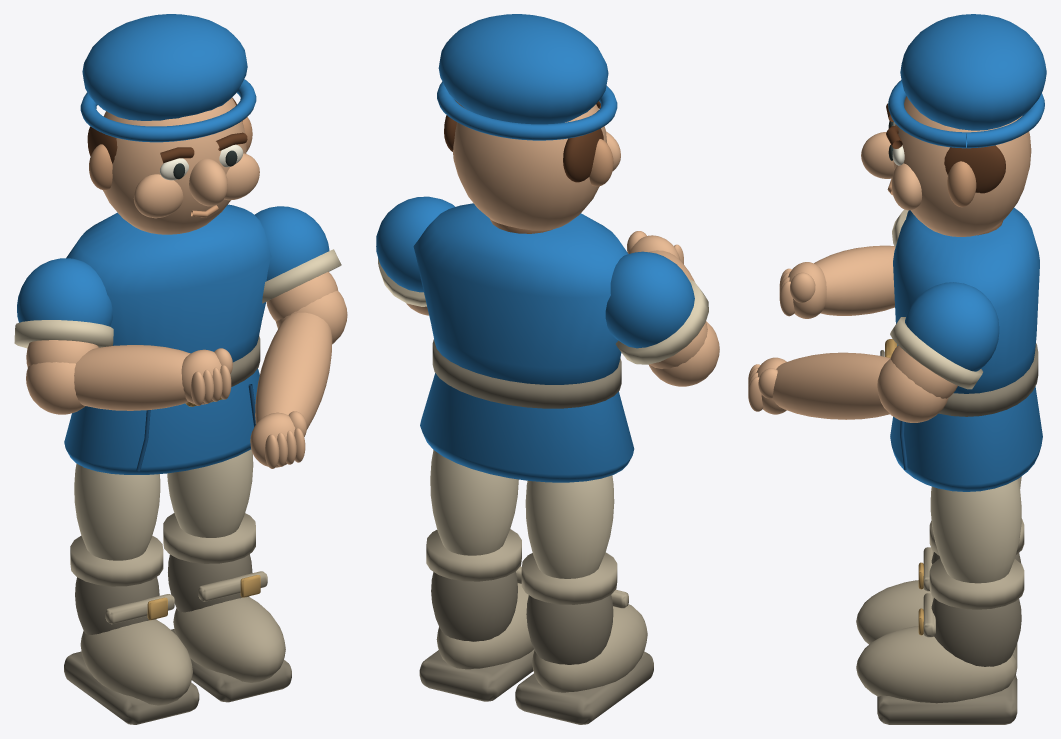
Rendered from houthakker_hakken.glb.
3 renders of one model, left to right at view 1: azimuth 30°, elevation 25°; view 2: azimuth 150°, elevation 25°; view 3: azimuth 270°, elevation 25°, orthographic. The views are drawn at different scales.
Parts seen in each view (by area): view 1: Tunic_torso, TEAM_Wool_work_cap, Tunic_skirt, Head, Boot_toe, Boot_toe.001, Trouser_leg, Right_Forearm, Left_Forearm, Trouser_leg.001, Right_Sleeve, TEAM_Rolled_cap_rim (+23 smaller); view 2: Tunic_torso, Tunic_skirt, TEAM_Wool_work_cap, Head, Trouser_leg, Trouser_leg.001, Right_Sleeve, Boot_shaft, Boot_shaft.001, Belt, Boot_toe, Boot_sole (+13 smaller); view 3: Tunic_torso, TEAM_Wool_work_cap, Tunic_skirt, Boot_toe.001, Trouser_leg.001, Head, Left_Forearm, Left_Sleeve, Right_Forearm, Boot_shaft.001, Boot_sole.001, TEAM_Rolled_cap_rim (+13 smaller).
Part boxes in pixels (x1,y1,x2,y2): Tunic_torso: (66, 204, 271, 362); TEAM_Wool_work_cap: (82, 14, 247, 120); Tunic_skirt: (64, 368, 259, 474); Head: (103, 98, 246, 234); Boot_toe: (80, 619, 192, 705); Boot_toe.001: (173, 597, 285, 682); Trouser_leg: (74, 463, 160, 560); Right_Forearm: (74, 345, 190, 410); Left_Forearm: (255, 312, 332, 429); Trouser_leg.001: (167, 449, 253, 537); Right_Sleeve: (17, 258, 112, 326); TEAM_Rolled_cap_rim: (80, 79, 256, 142); Tunic_torso: (413, 203, 628, 384); Tunic_skirt: (420, 373, 634, 482); TEAM_Wool_work_cap: (438, 14, 608, 124); Head: (453, 104, 607, 230); Trouser_leg: (525, 475, 614, 578); Trouser_leg.001: (430, 450, 518, 555); Right_Sleeve: (605, 251, 694, 348); Boot_shaft: (526, 595, 613, 664); Boot_shaft.001: (431, 571, 517, 641); Belt: (432, 339, 621, 408); Boot_toe: (532, 604, 647, 692); Boot_sole: (515, 651, 653, 724); Tunic_torso: (893, 207, 1039, 393); TEAM_Wool_work_cap: (900, 14, 1046, 130); Tunic_skirt: (890, 386, 1042, 491); Boot_toe.001: (856, 626, 1017, 703); Trouser_leg.001: (930, 479, 1021, 583); Head: (893, 96, 1031, 236); Left_Forearm: (772, 352, 890, 419); Left_Sleeve: (905, 282, 999, 371); Right_Forearm: (814, 245, 895, 315); Boot_shaft.001: (931, 598, 1021, 666); Boot_sole.001: (877, 675, 1017, 724); TEAM_Rolled_cap_rim: (888, 80, 1044, 148).
Size of the model in its own units: 1.05 by 2.08 by 0.852.
